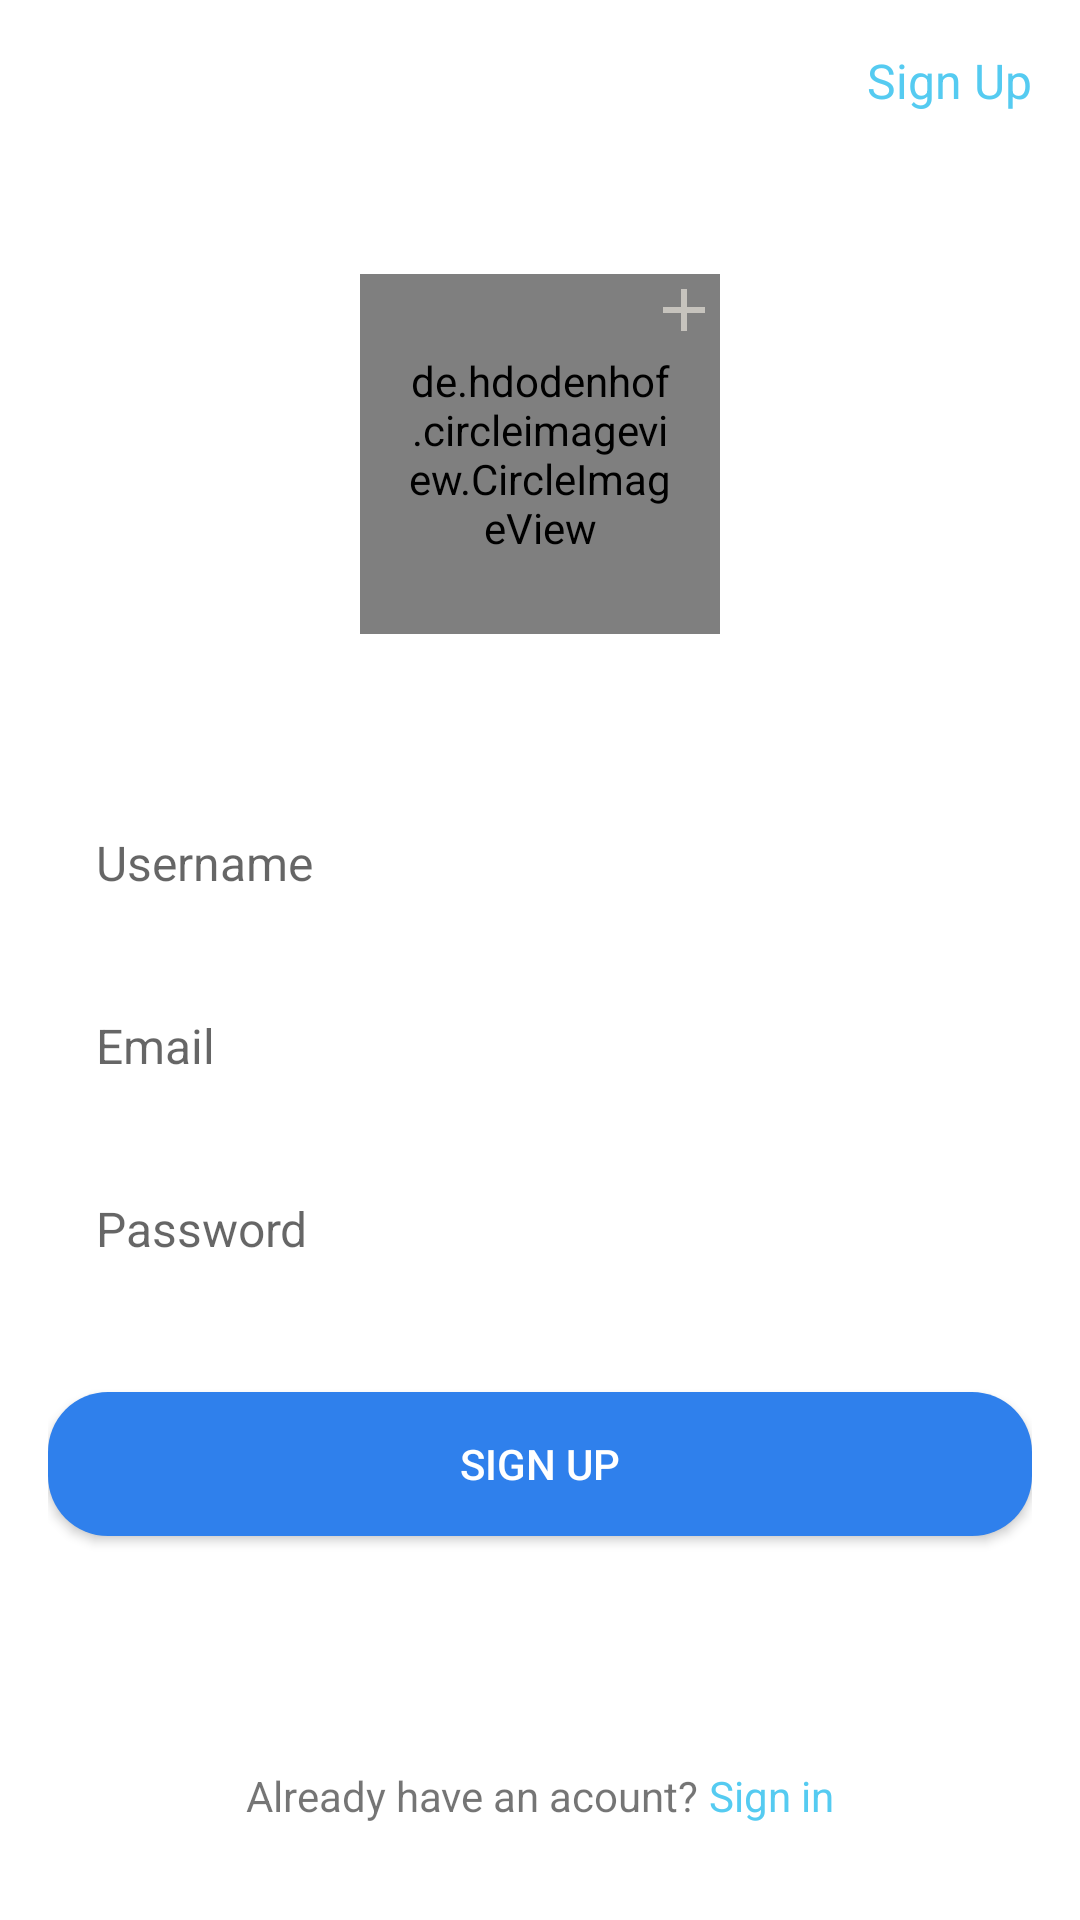

Locate icon controls on the screen. Image size 1080w x 1920h, boxes as [x1=x1, y1=y1, x2=x2, y2=y2].
add: [x1=663, y1=289, x2=705, y2=331]
